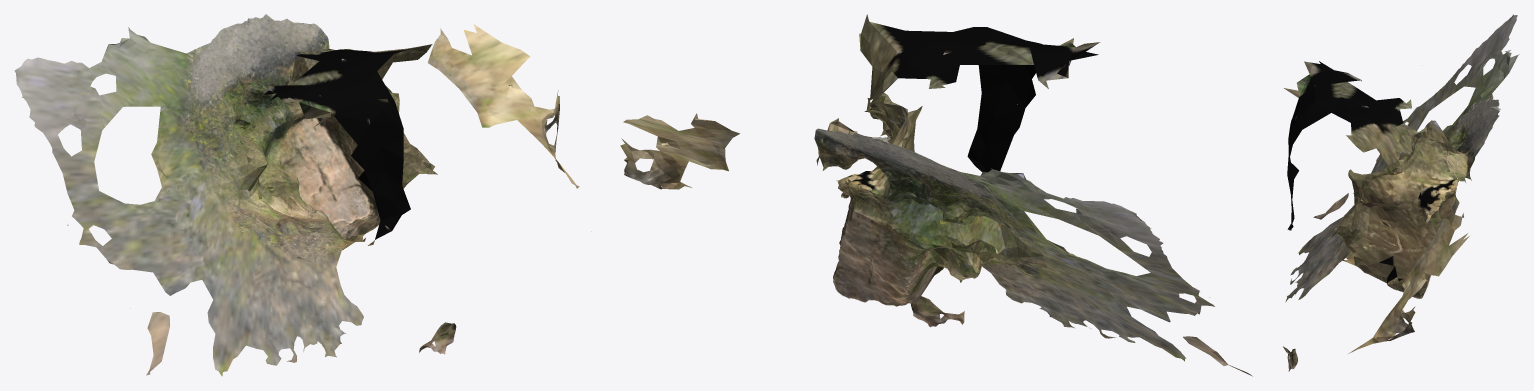
File: texturedMesh.obj
3 views of the same model, side by side, from view 1: azimuth 30°, elevation 25°; view 2: azimuth 150°, elevation 25°; view 3: azimuth 270°, elevation 25° (orthographic). The views are drawn at different scales.
Visible parts, largest first — view 1: TexturedMesh; view 2: TexturedMesh; view 3: TexturedMesh.
Part boxes in pixels (x1,y1,x2,y2): TexturedMesh: (14,14,579,376); TexturedMesh: (620,14,1252,376); TexturedMesh: (1283,14,1519,371).
Bounding box in the file's own units: 4.29 × 2.35 × 2.05.
Materials: 1 (1 with a texture image).
